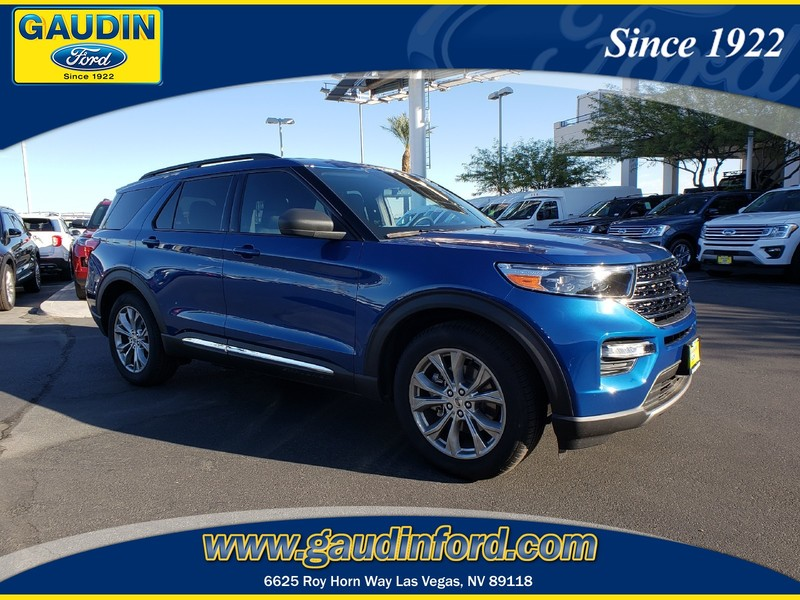Ford Explorer: (82, 150, 703, 483)
